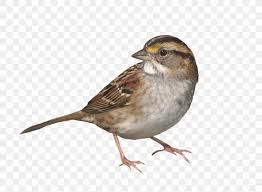hsparrow: (18, 31, 202, 177)
